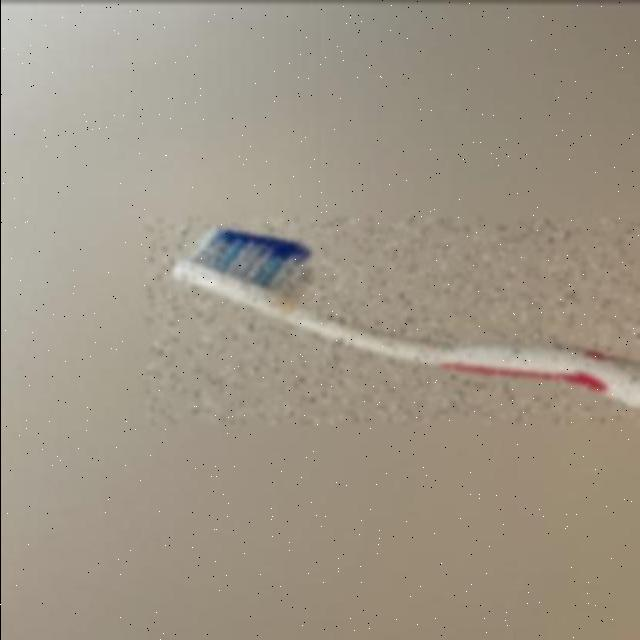toothbrush: (146, 217, 640, 421)
